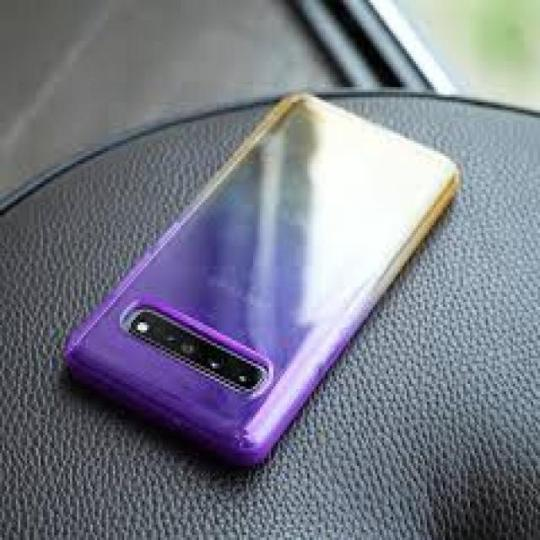phone: (57, 91, 463, 474)
